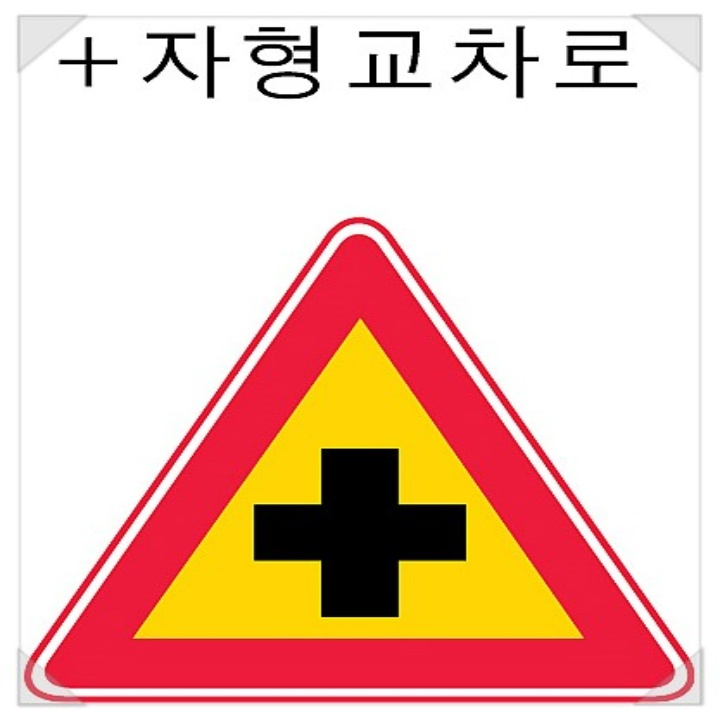inter: (255, 441, 467, 623)
